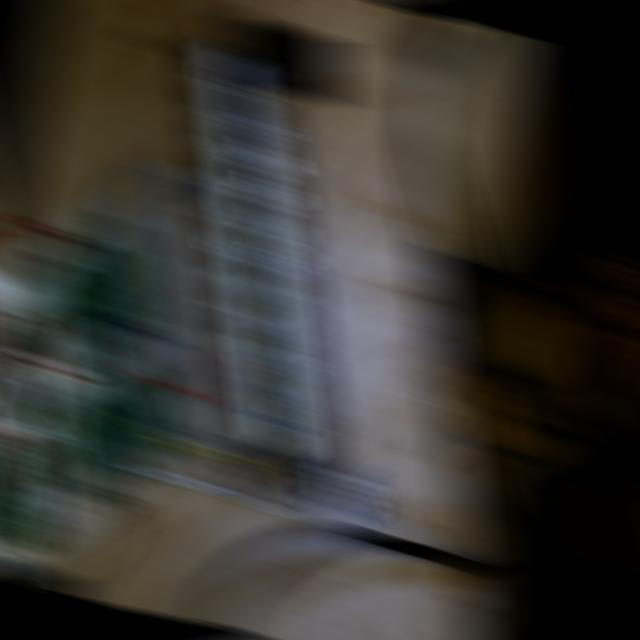Phillips_Block: (180, 5, 334, 498)
Terminal_1: (0, 437, 40, 546), (0, 331, 25, 418)
Terminal_2: (43, 394, 105, 500), (75, 373, 135, 478), (28, 260, 89, 363), (107, 351, 166, 454), (58, 239, 117, 341)
